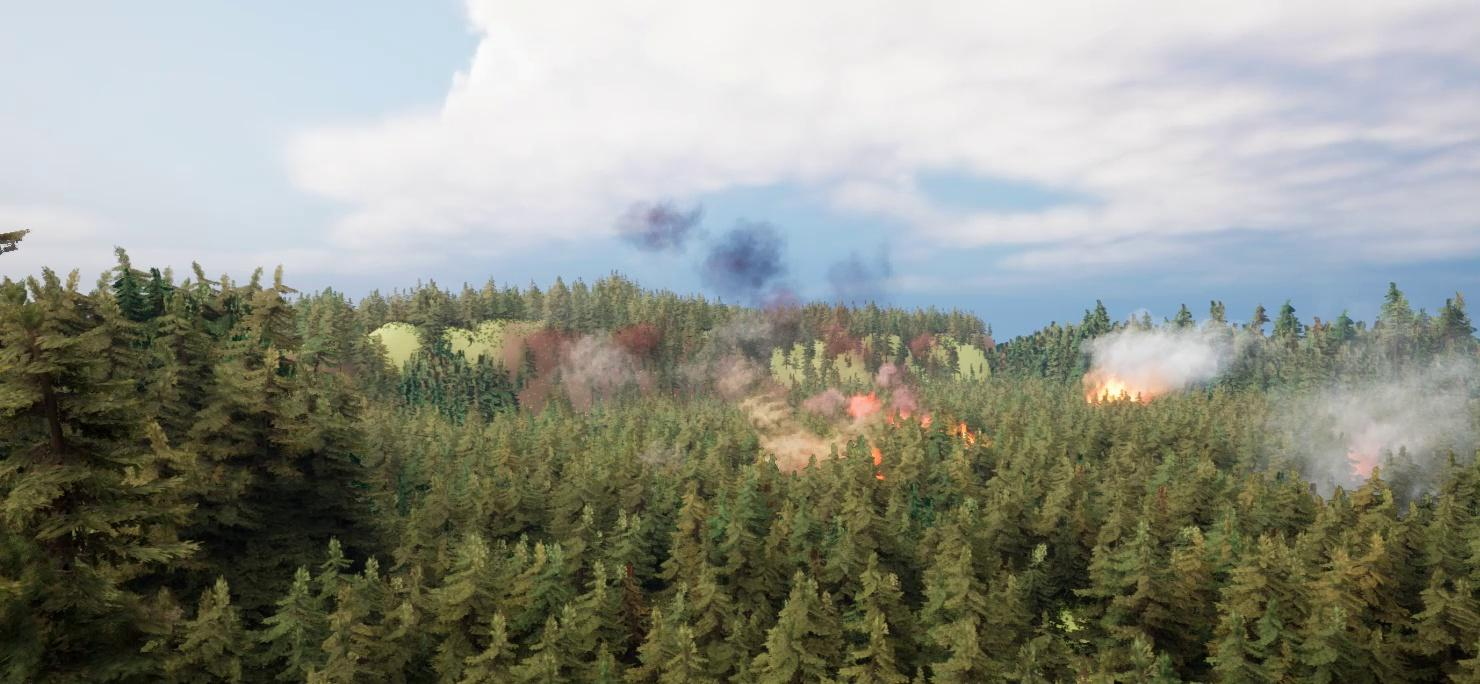fire: (849, 391, 985, 488), (1085, 373, 1152, 399)
smoke: (1095, 319, 1477, 486), (634, 186, 941, 363)
